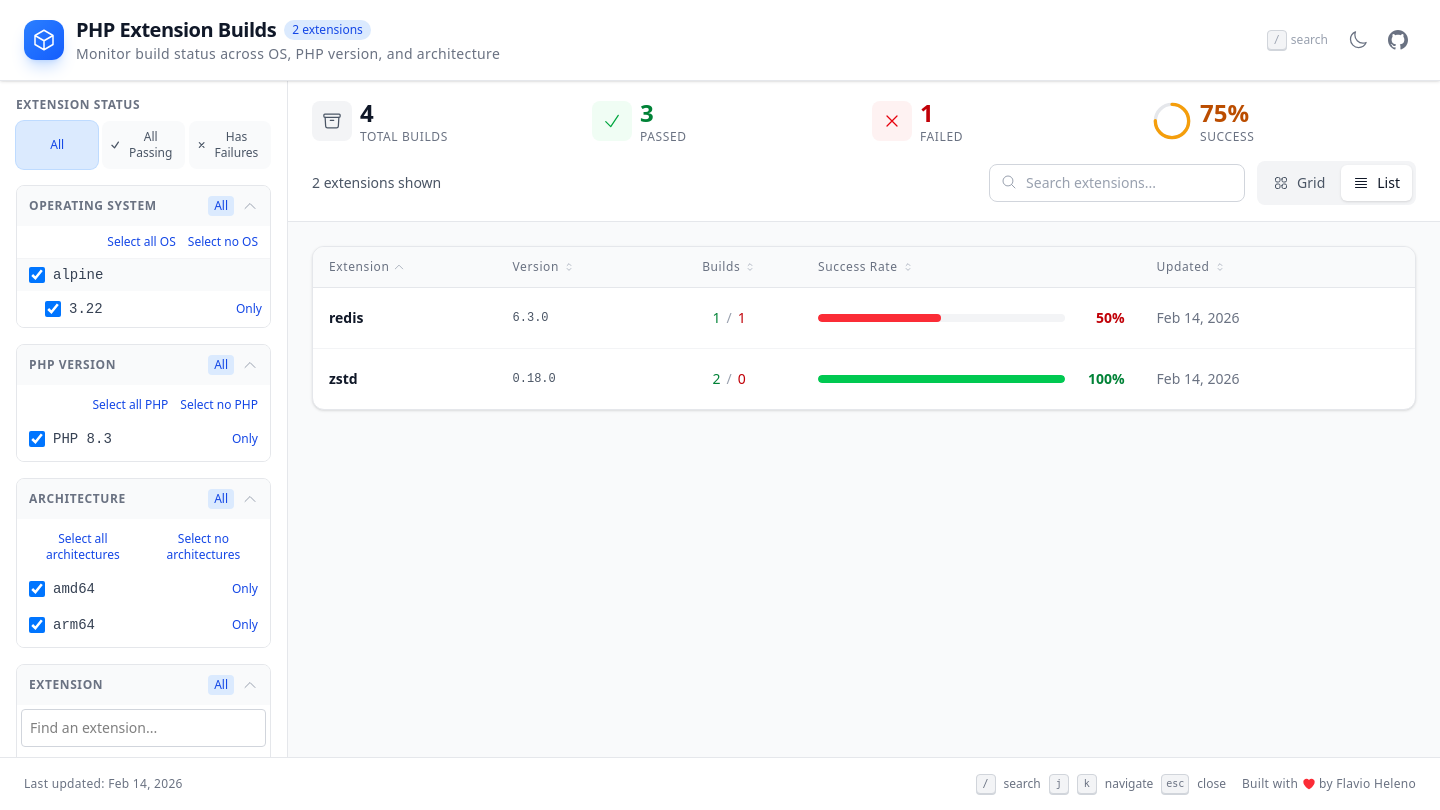
it: dashboard flows › shows failed-report feedback and retries instead of presenting no-data cells
The image size is (1440, 810).
Click the button with aria-label "Grid view". click: (1299, 183)
box: top-left (1261, 165), bottom-right (1337, 201)
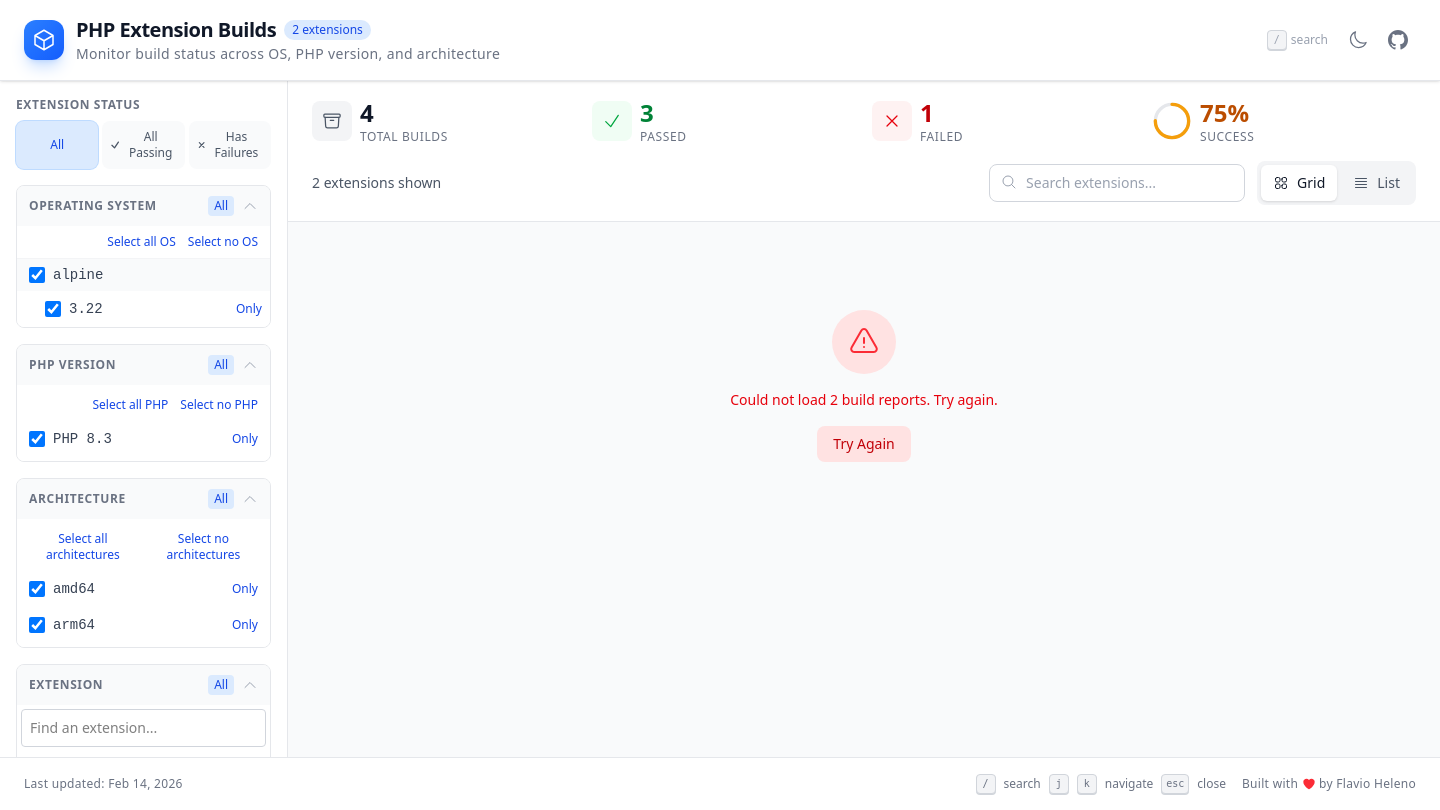
Check: the message "Could not load 2 build reports. Try again. Try Again" is shown, box top-left (730, 310), bottom-right (998, 462)
Click the button "Try Again". click: (864, 444)
box: top-left (817, 426), bottom-right (911, 462)
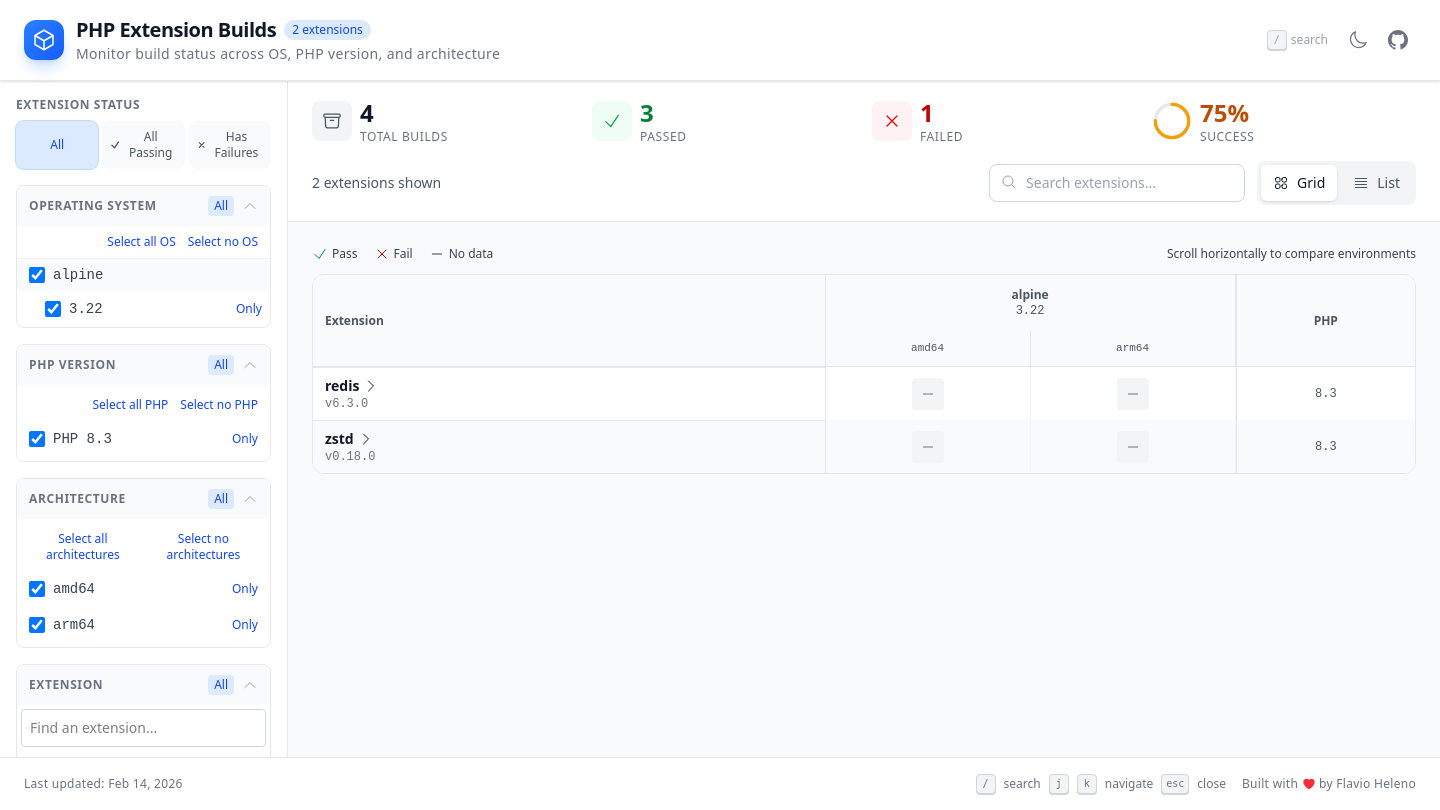
Check: the table named "Extension build matrix" is shown, box top-left (313, 275), bottom-right (1415, 473)
